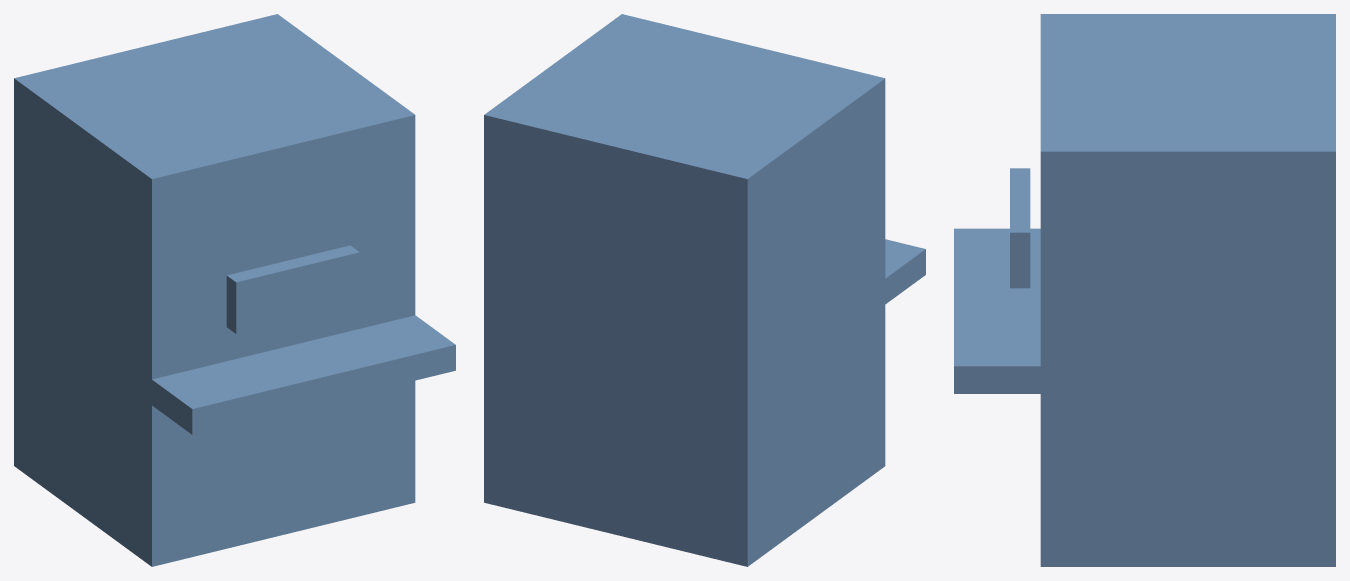
File: com_awning.glb
3 views of the same model, side by side, from view 1: azimuth 30°, elevation 25°; view 2: azimuth 150°, elevation 25°; view 3: azimuth 270°, elevation 25° (orthographic). The views are drawn at different scales.
Visible parts, largest first — view 1: com_awning; view 2: com_awning; view 3: com_awning.
Part boxes in pixels (x1,y1,x2,y2): com_awning: (14, 14, 455, 566); com_awning: (484, 14, 925, 566); com_awning: (954, 14, 1335, 566).
Bounding box in the file's own units: 0.64 × 0.9 × 0.75.
